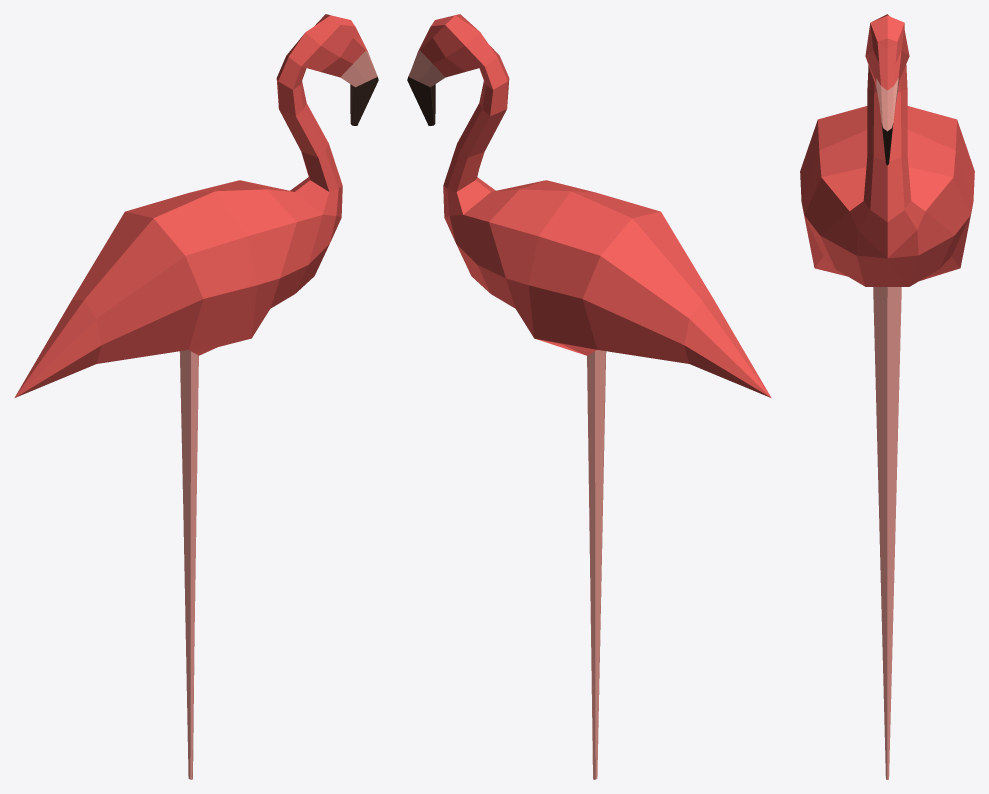
File: FLamingo.fbx
3 views of the same model, side by side, from view 1: azimuth 30°, elevation 25°; view 2: azimuth 150°, elevation 25°; view 3: azimuth 270°, elevation 25° (orthographic). The views are drawn at different scales.
Visible parts, largest first — view 1: Sphere; view 2: Sphere; view 3: Sphere.
Part boxes in pixels (x1,y1,x2,y2): Sphere: (14, 14, 378, 779); Sphere: (407, 14, 771, 779); Sphere: (800, 14, 974, 779).
Size of the model in its own units: 4.25 by 8.17 by 1.54.
